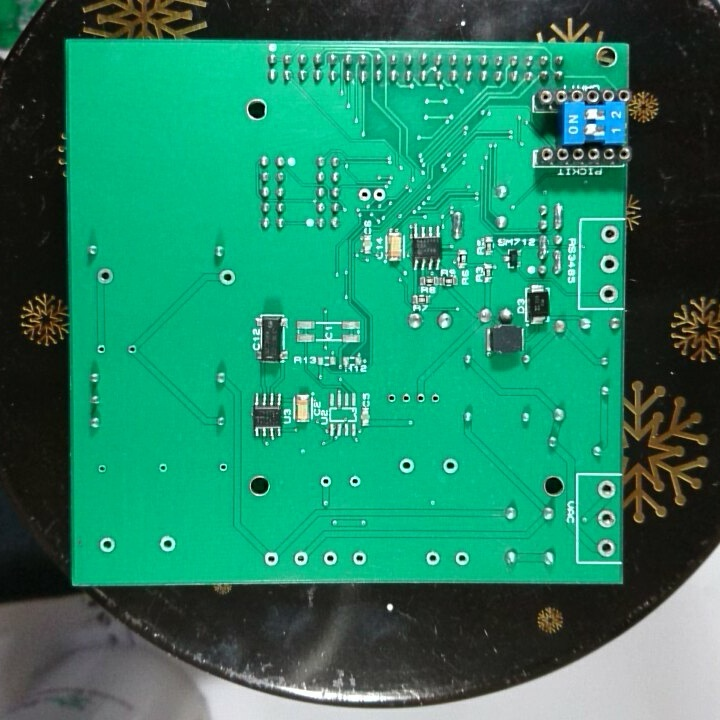F: (593, 506, 618, 531), (593, 535, 617, 560), (596, 282, 621, 306), (597, 252, 620, 277), (595, 476, 617, 501), (156, 532, 178, 556), (94, 265, 117, 287), (598, 223, 620, 246), (422, 547, 443, 568), (451, 547, 471, 569), (217, 268, 238, 288), (97, 534, 118, 554), (319, 547, 339, 568), (440, 457, 461, 477), (397, 455, 416, 477), (350, 549, 370, 569), (291, 548, 310, 569), (261, 549, 282, 567), (371, 186, 388, 205), (317, 472, 334, 490), (346, 472, 363, 490), (356, 186, 372, 204), (124, 340, 139, 359), (384, 389, 399, 408), (413, 388, 427, 407), (399, 389, 412, 409), (154, 460, 171, 475), (215, 458, 230, 475), (428, 389, 442, 407), (94, 460, 109, 476), (94, 342, 108, 357)
P: (449, 207, 465, 242), (535, 232, 551, 263), (551, 199, 566, 230), (551, 246, 565, 278)
